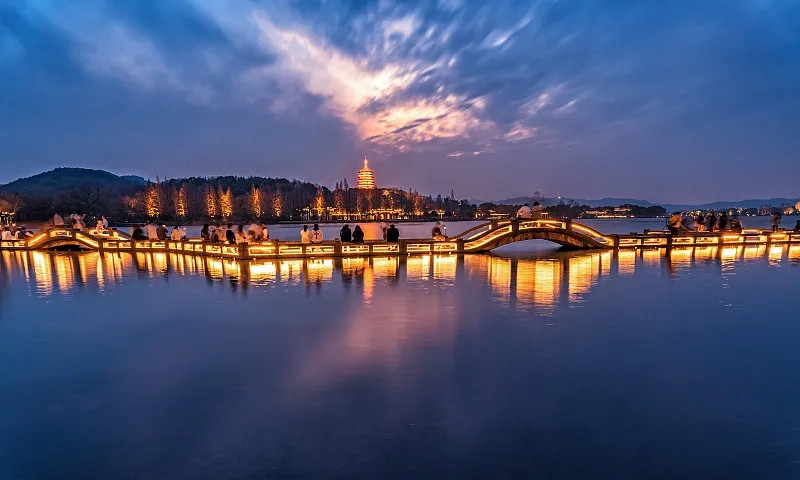Leifeng: (355, 155, 376, 190)
